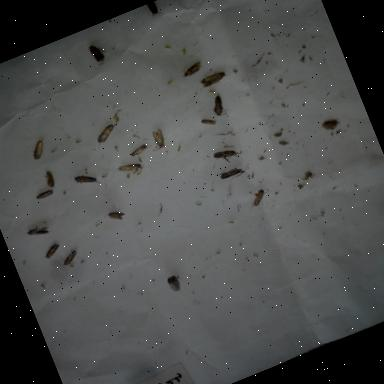pbw: (193, 65, 231, 93), (96, 201, 130, 231), (36, 234, 70, 262), (88, 119, 120, 147), (212, 161, 247, 186), (56, 241, 88, 268), (158, 270, 188, 298), (70, 166, 102, 192), (176, 55, 208, 81), (82, 39, 110, 68), (23, 217, 54, 243), (114, 156, 147, 180), (208, 142, 240, 166), (146, 124, 173, 152), (22, 138, 50, 164), (244, 184, 272, 210), (206, 90, 230, 118), (197, 110, 221, 132), (39, 166, 61, 190), (124, 141, 150, 161), (29, 186, 55, 204), (143, 0, 166, 19)
